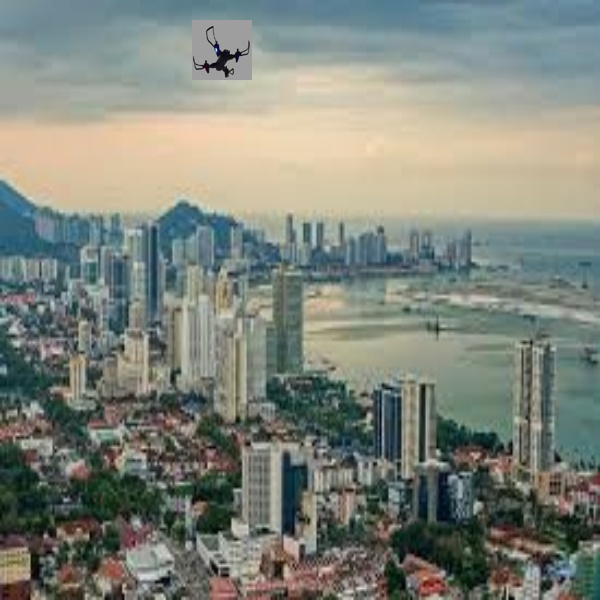drone: (190, 16, 255, 79)
